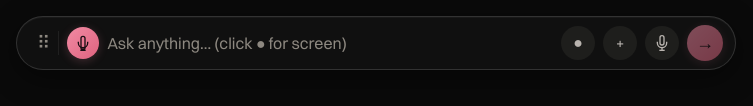
Test: OverlayAssistant › appends dictated text to whatever is already typed
This screenshot has width=753, height=106.
Type "which " into the field with placeholder "Ask anything... (click ● for screen)" at [330, 43], box [107,28,553,58]
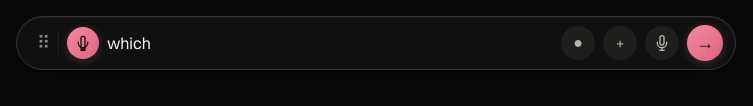
Click the button titled "Dictate" at [662, 43], box [645,26,679,60]
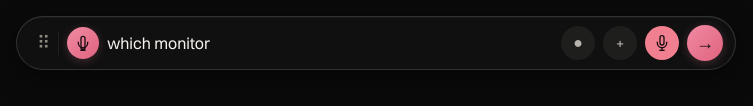
expect the field with placeholder "Ask anything... (click ● for screen)" holds "which monitor ": met, box [107,28,553,58]
